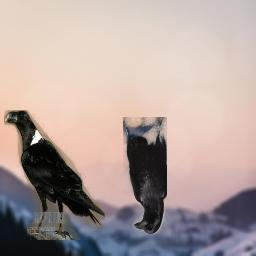Crow: (4, 110, 105, 240), (123, 117, 167, 234)
